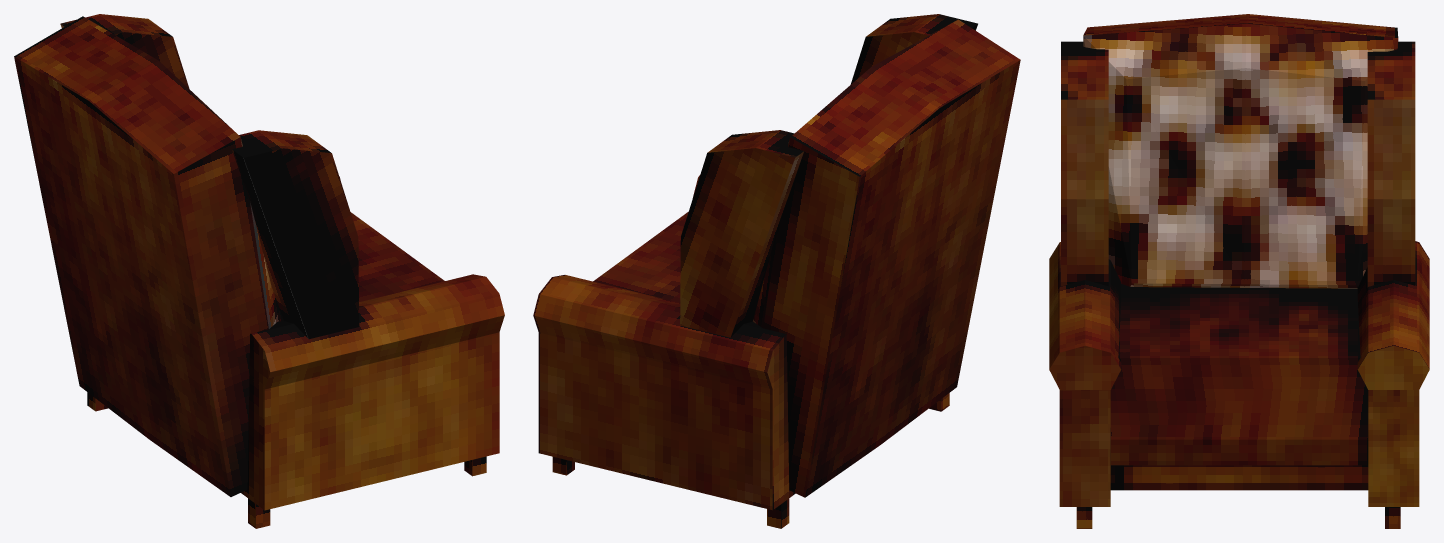
The model's file is SM_Chair.glb.
3 views of the same model, side by side, from view 1: azimuth 30°, elevation 25°; view 2: azimuth 150°, elevation 25°; view 3: azimuth 270°, elevation 25° (orthographic). The views are drawn at different scales.
Visible parts, largest first — view 1: SM_Chair; view 2: SM_Chair; view 3: SM_Chair.
Part boxes in pixels (x1=…): SM_Chair: x1=14, y1=14, x2=504, y2=528; SM_Chair: x1=533, y1=14, x2=1020, y2=528; SM_Chair: x1=1049, y1=14, x2=1429, y2=528.
Bounding box in the file's own units: 1.3 × 1.61 × 1.42.
Materials: 1 (1 with a texture image).
